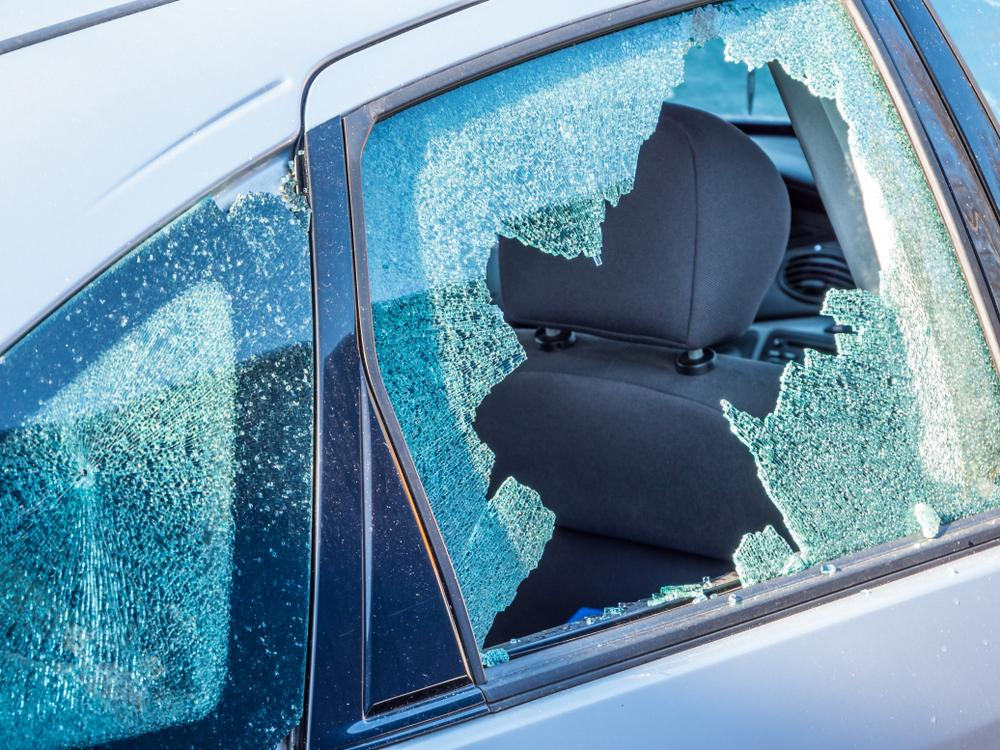glass shatter: (361, 0, 1000, 669), (0, 143, 316, 750)
